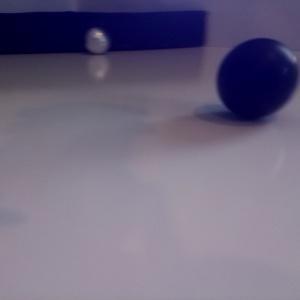zone: (1, 10, 206, 54)
